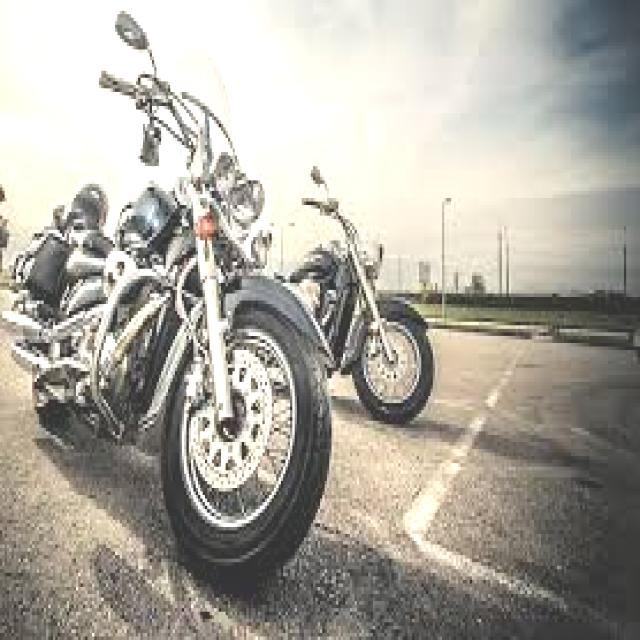MOTORCYCLE: (8, 84, 321, 568), (283, 187, 432, 426)
